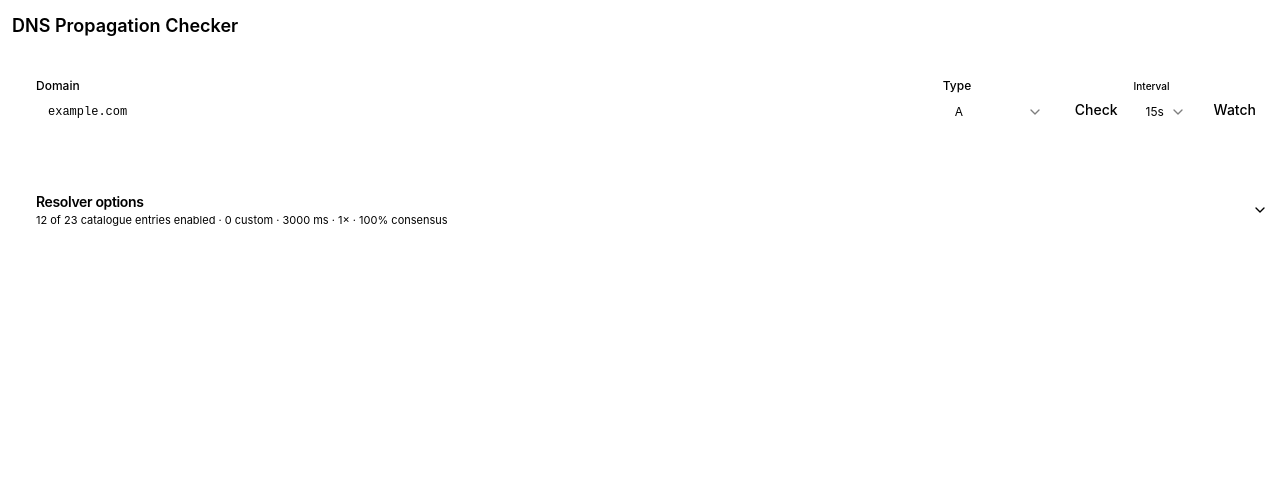
renders an empty successful lookup with an explicit retry affordance
Step 1. Click the button "Check" → {"x": 1096, "y": 110}, box [1063,92,1130,128]
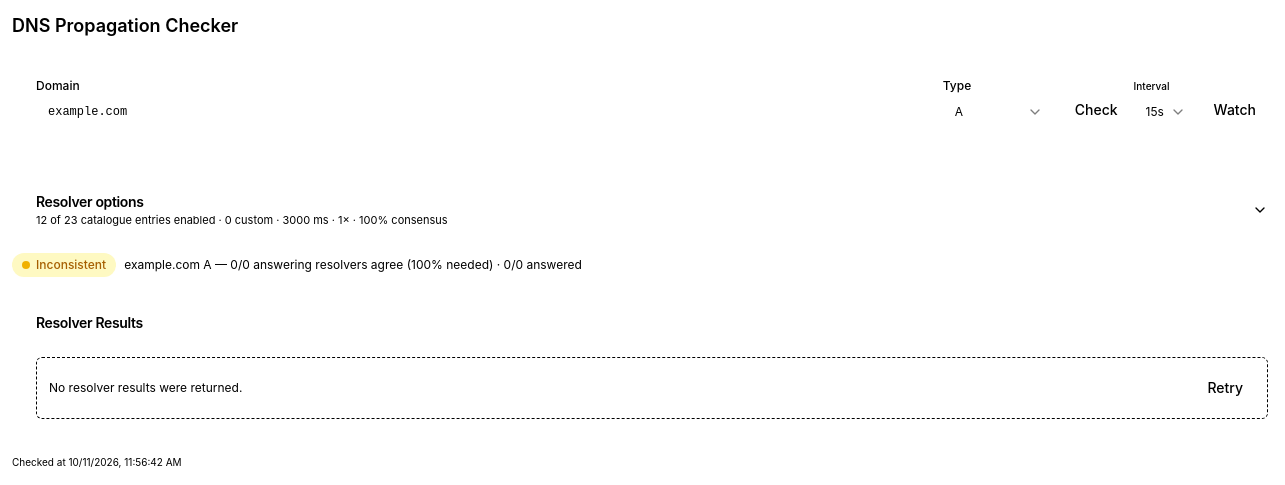
Now the text "No resolver results were returned." is shown, box [49,380,242,396]
Now the text with test id "propagation-summary" shows "0/0 answering resolvers agree", box [124,256,582,272]
Now the button "Retry" is shown, box [1195,370,1255,406]
